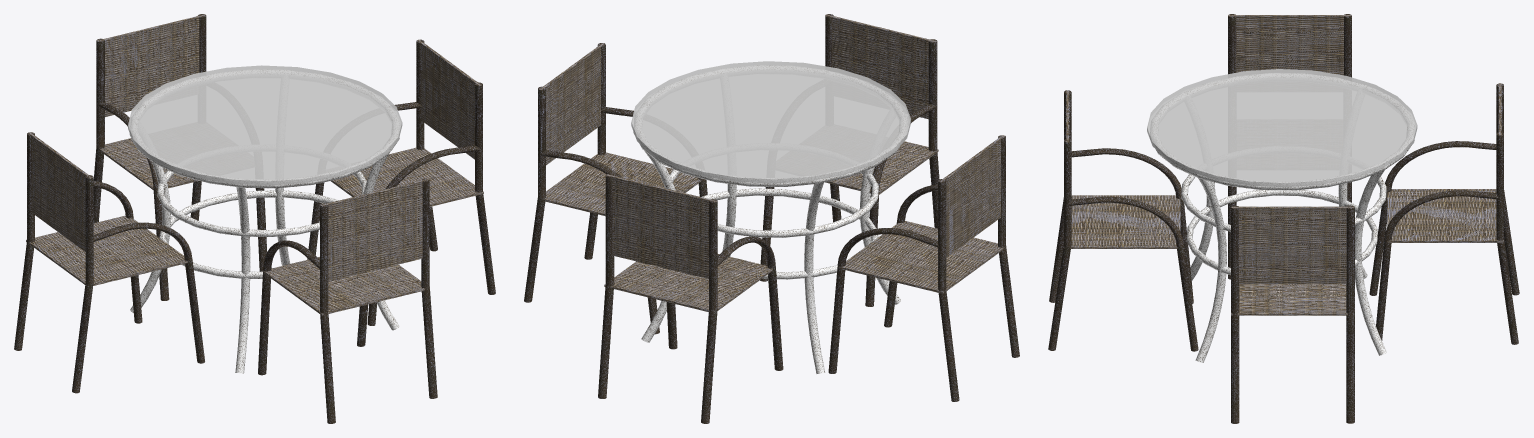
3 views of the same model, side by side, from view 1: azimuth 30°, elevation 25°; view 2: azimuth 150°, elevation 25°; view 3: azimuth 270°, elevation 25° (orthographic). The views are drawn at different scales.
Parts seen in each view (by area): view 1: group_9, Componente_7 (×4), Componente_4 (×19), Componente_6 (×4), Componente_1 (×5), Componente_2 (×4), Componente_5 (×3); view 2: group_9, Componente_7 (×4), Componente_6 (×4), Componente_4 (×17), Componente_1 (×5), Componente_2 (×4), Componente_5 (×2); view 3: group_9, Componente_7 (×2), Componente_6 (×3), Componente_4 (×16), Componente_1 (×6), Componente_2 (×3), Componente_5 (×4).
Boxes of the visible parts, x1,y1,x2,y2 form: group_9: (128, 65, 402, 185); Componente_7 (×4): (29, 14, 481, 281); Componente_4 (×19): (14, 14, 495, 423); Componente_6 (×4): (26, 138, 483, 315); Componente_1 (×5): (129, 69, 399, 278); Componente_2 (×4): (130, 73, 399, 373); Componente_5 (×3): (109, 147, 459, 271); group_9: (631, 61, 910, 183); Componente_7 (×4): (539, 14, 1004, 278); Componente_6 (×4): (537, 141, 1006, 313); Componente_4 (×17): (524, 39, 1019, 423); Componente_1 (×5): (633, 65, 907, 277); Componente_2 (×4): (641, 71, 900, 373); Componente_5 (×2): (722, 228, 921, 268); group_9: (1147, 69, 1417, 187); Componente_7 (×2): (1228, 15, 1354, 283); Componente_6 (×3): (1064, 189, 1503, 315); Componente_4 (×16): (1048, 14, 1519, 423); Componente_1 (×6): (1150, 73, 1414, 275); Componente_2 (×3): (1187, 94, 1386, 362); Componente_5 (×4): (1090, 141, 1477, 247).
Size of the model in its own units: 65.94 by 64.27 by 32.47.
